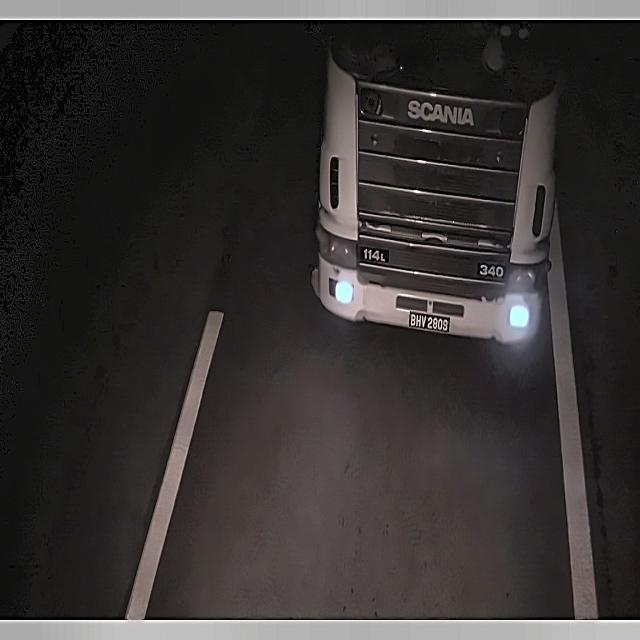car: (402, 303, 458, 344)
